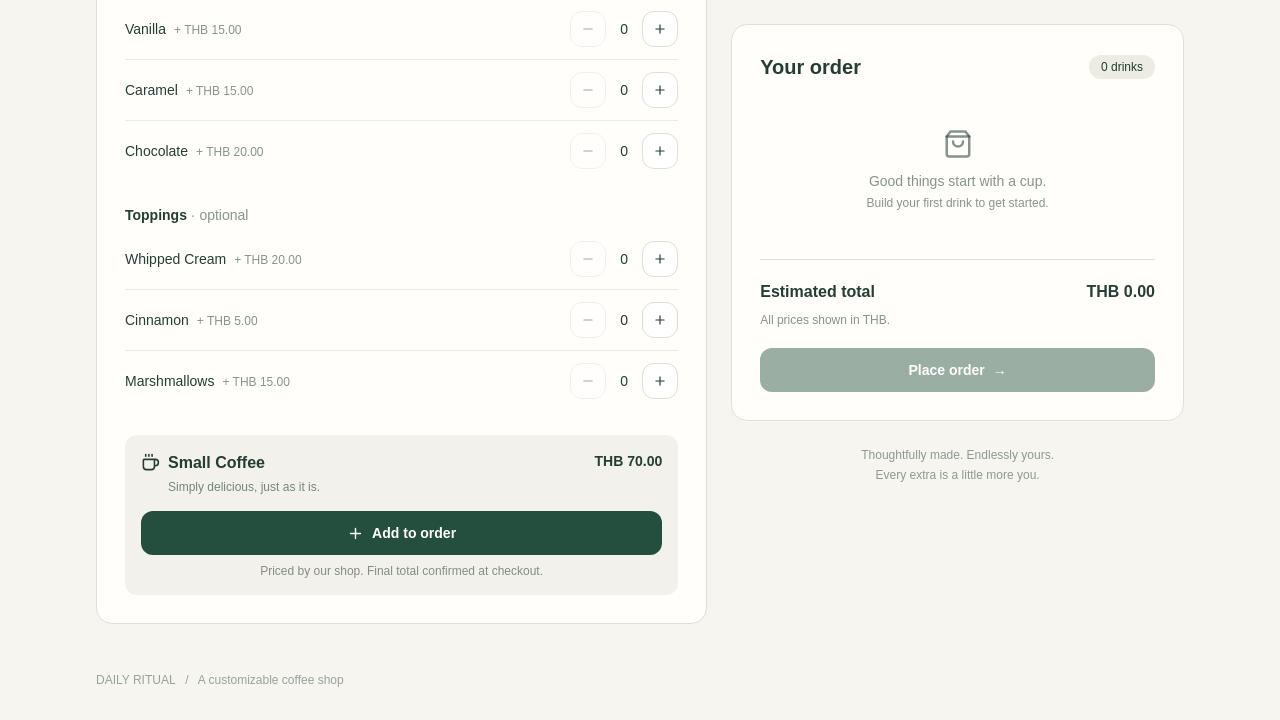
Coffee ordering › uses the final receipt price even when it differs from the cart quote
(page scrolled)
Click the button "Add to order": (402, 533) [141,511,662,555]
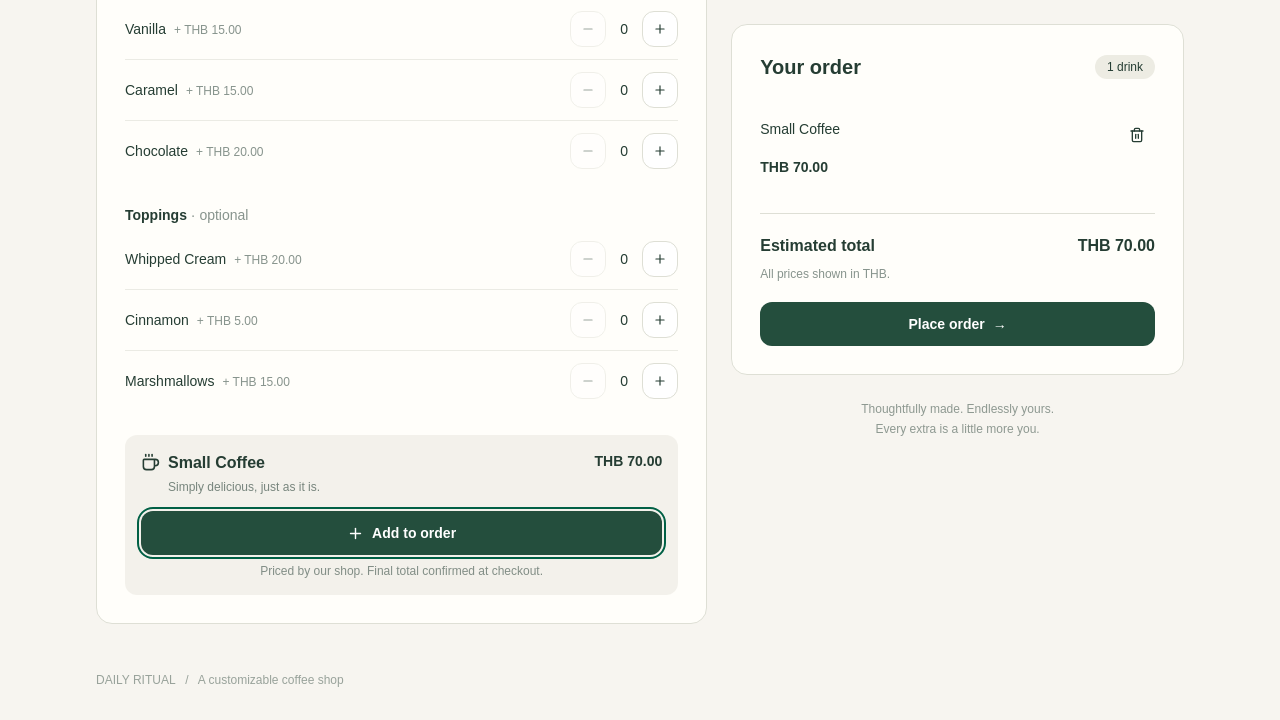
Click the button "Place order →": (958, 324) [760,302,1155,346]
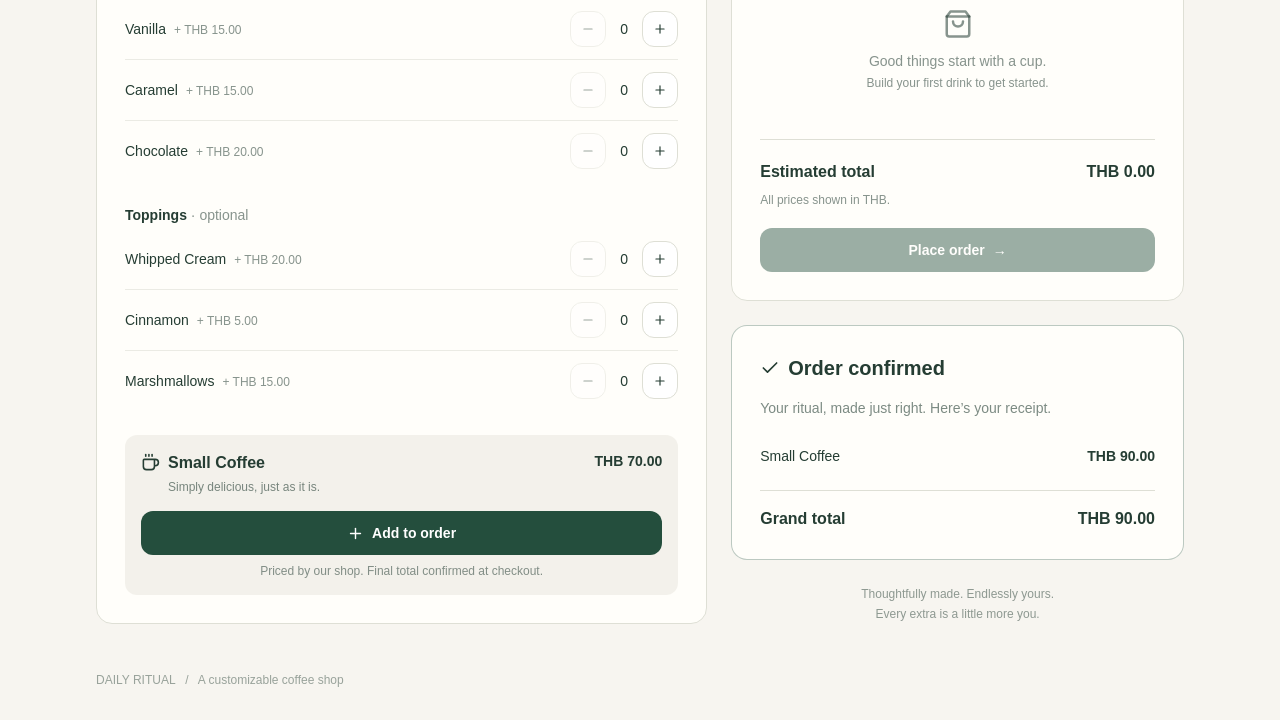
expect the text "THB 90.00" is shown 2 times: met, box [1087,446,1155,466]; [1078,507,1155,531]
